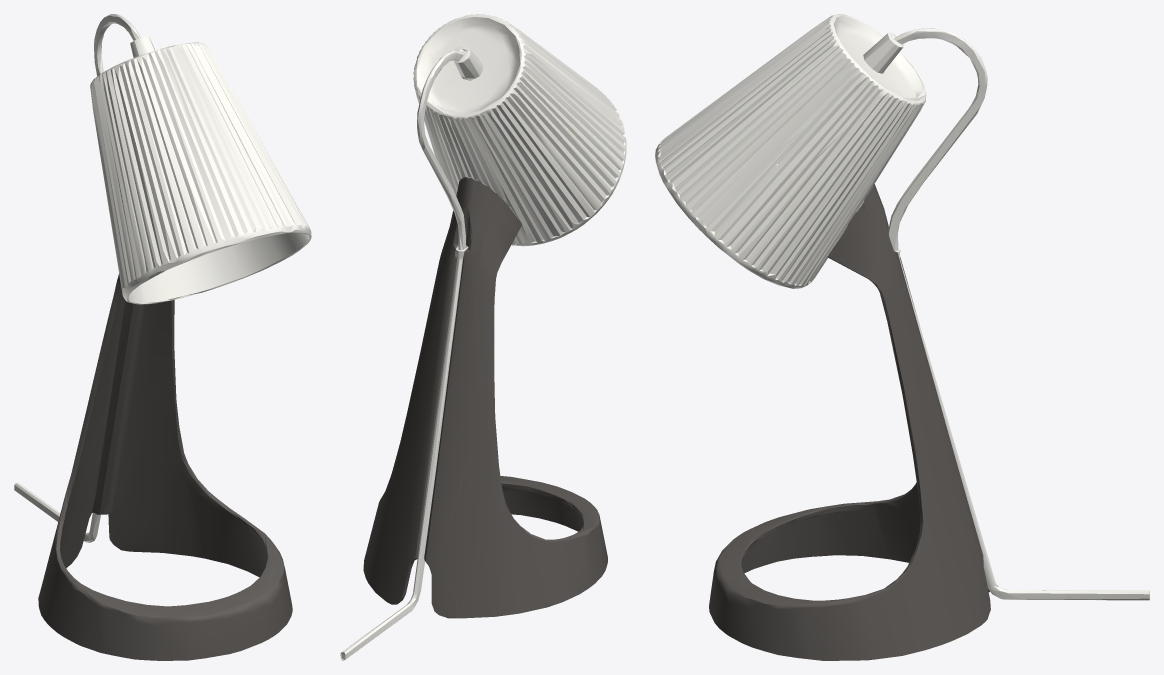
The model's file is svallet-work-lamp-dark-gray-white.glb.
3 renders of one model, left to right at view 1: azimuth 30°, elevation 25°; view 2: azimuth 150°, elevation 25°; view 3: azimuth 270°, elevation 25°, orthographic. The views are drawn at different scales.
Parts seen in each view (by area): view 1: ProcessedMeshNode; view 2: ProcessedMeshNode; view 3: ProcessedMeshNode.
Part boxes in pixels (x1,y1,x2,y2): ProcessedMeshNode: (14,14,311,660); ProcessedMeshNode: (340,14,626,660); ProcessedMeshNode: (655,14,1149,660).
Size of the model in its own units: 0.142 by 0.3544 by 0.2715.
1 material, 1 textured.
